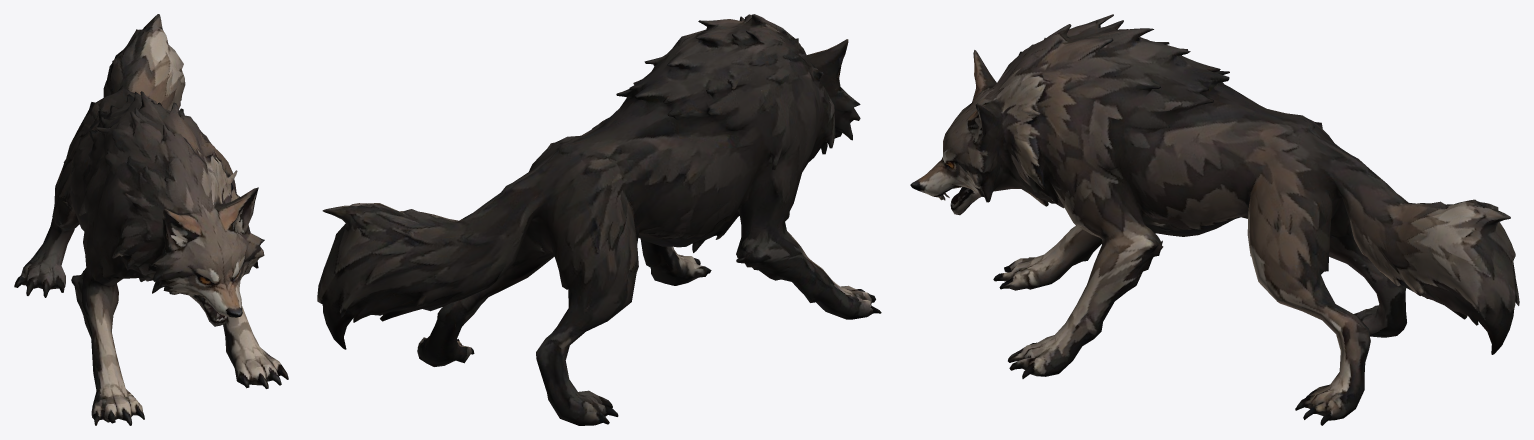
3 renders of one model, left to right at view 1: azimuth 30°, elevation 25°; view 2: azimuth 150°, elevation 25°; view 3: azimuth 270°, elevation 25°, orthographic. The views are drawn at different scales.
Visible parts, largest first — view 1: tripo_node_b1c1d8e6-fb71-4939-b47a-7af9f1c8aafc; view 2: tripo_node_b1c1d8e6-fb71-4939-b47a-7af9f1c8aafc; view 3: tripo_node_b1c1d8e6-fb71-4939-b47a-7af9f1c8aafc.
Part boxes in pixels (<box>): tripo_node_b1c1d8e6-fb71-4939-b47a-7af9f1c8aafc: <box>14,14,288,425</box>; tripo_node_b1c1d8e6-fb71-4939-b47a-7af9f1c8aafc: <box>317,14,881,425</box>; tripo_node_b1c1d8e6-fb71-4939-b47a-7af9f1c8aafc: <box>910,14,1519,425</box>.
Size of the model in its own units: 0.6061 by 0.5341 by 0.9748.
Materials: 1 (1 with a texture image).
